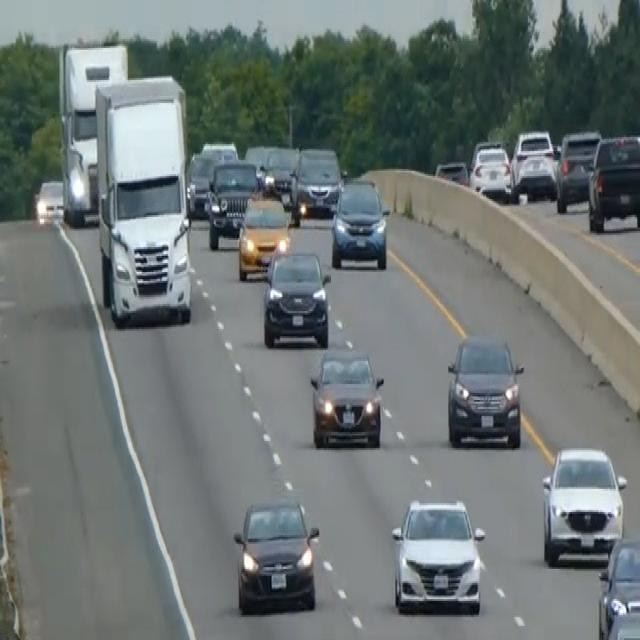car: (390, 494, 485, 615), (540, 443, 627, 565), (232, 494, 320, 614), (445, 330, 524, 450), (309, 345, 384, 448), (261, 242, 331, 348), (330, 176, 389, 270), (587, 131, 639, 233), (236, 189, 290, 279), (206, 158, 259, 249), (597, 534, 639, 638), (290, 144, 342, 220), (555, 128, 601, 212), (469, 139, 511, 201), (511, 128, 554, 183), (261, 144, 299, 206), (514, 151, 558, 203), (185, 149, 215, 219), (34, 178, 64, 224), (599, 604, 639, 638), (244, 142, 276, 183), (200, 137, 238, 165), (434, 156, 469, 186)
lorry: (93, 71, 193, 327)
